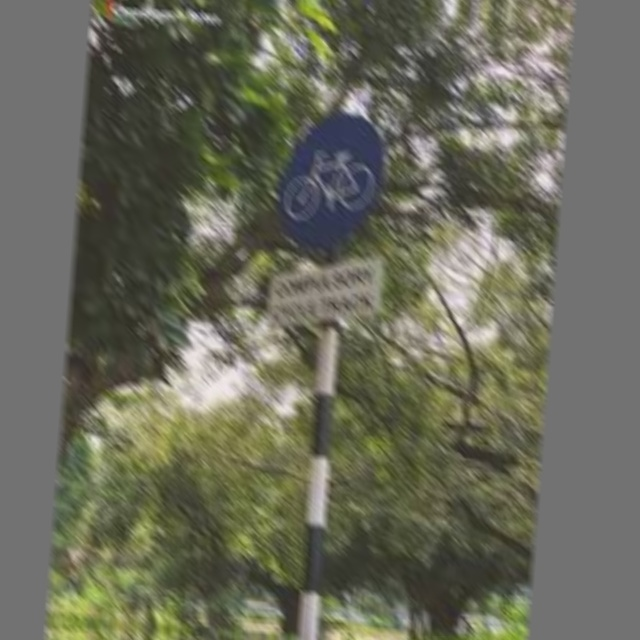Compulsory_Cycle_Track: (269, 108, 400, 253)
